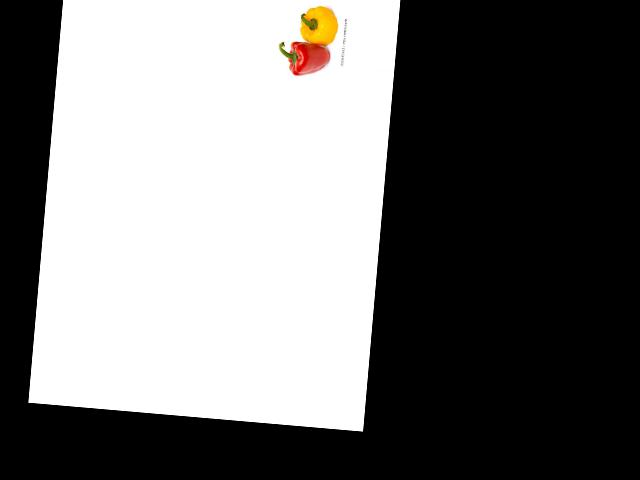bell_pepper: (295, 2, 343, 48)
